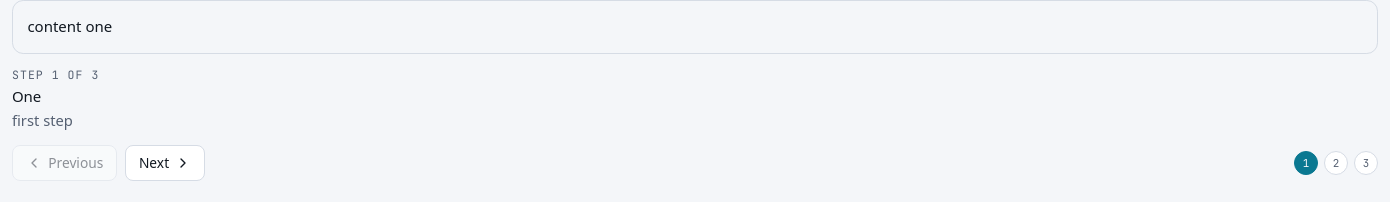
Test: Stepper › shows the first step and moves with next and previous
Expected: the text "Step 1 of 3" is shown, [12,67,99,82]
Expected: the text "content one" is shown, [27,16,112,36]
What coordinates should you click on to do the following:
click the button with aria-label "Next step"
I would click on:
 (165, 163)
Its box is [125,145,205,181].
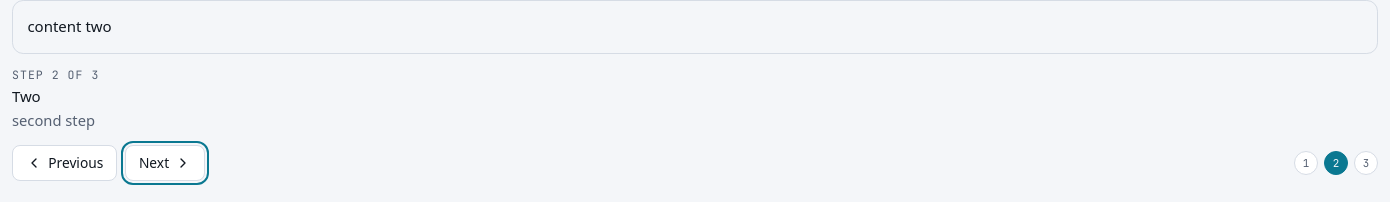
Expected: the text "content two" is shown, [27,16,112,36]
Expected: the text "content one" is gone
What coordinates should you click on to do the following:
click the button with aria-label "Next step"
I would click on:
 (165, 163)
Its box is [125,145,205,181].
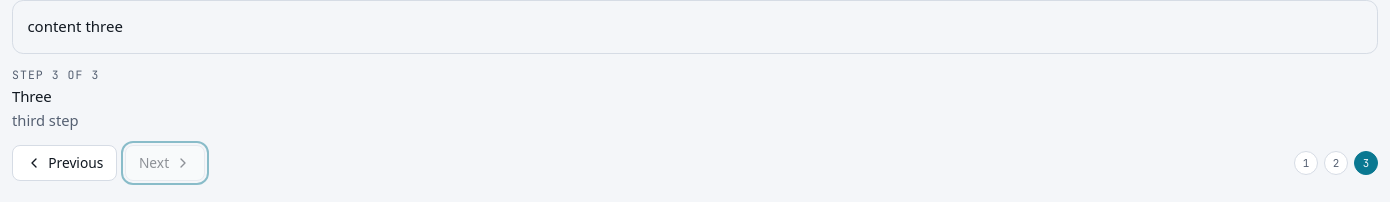
Expected: the button with aria-label "Next step" is disabled, [125,145,205,181]
What coordinates should you click on to do the following:
click the button with aria-label "Previous step"
I would click on:
 (65, 163)
Its box is [12,145,117,181].
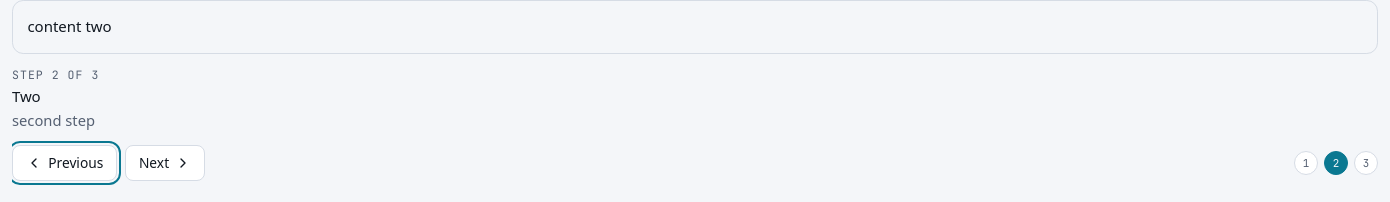
Expected: the text "Step 2 of 3" is shown, [12,67,99,82]
